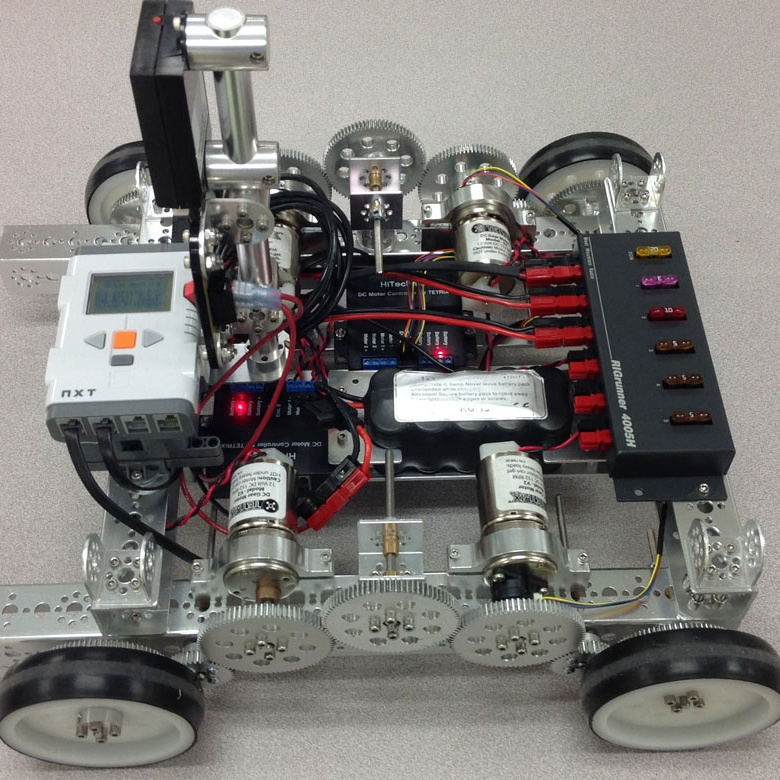robot: (2, 3, 779, 780)
